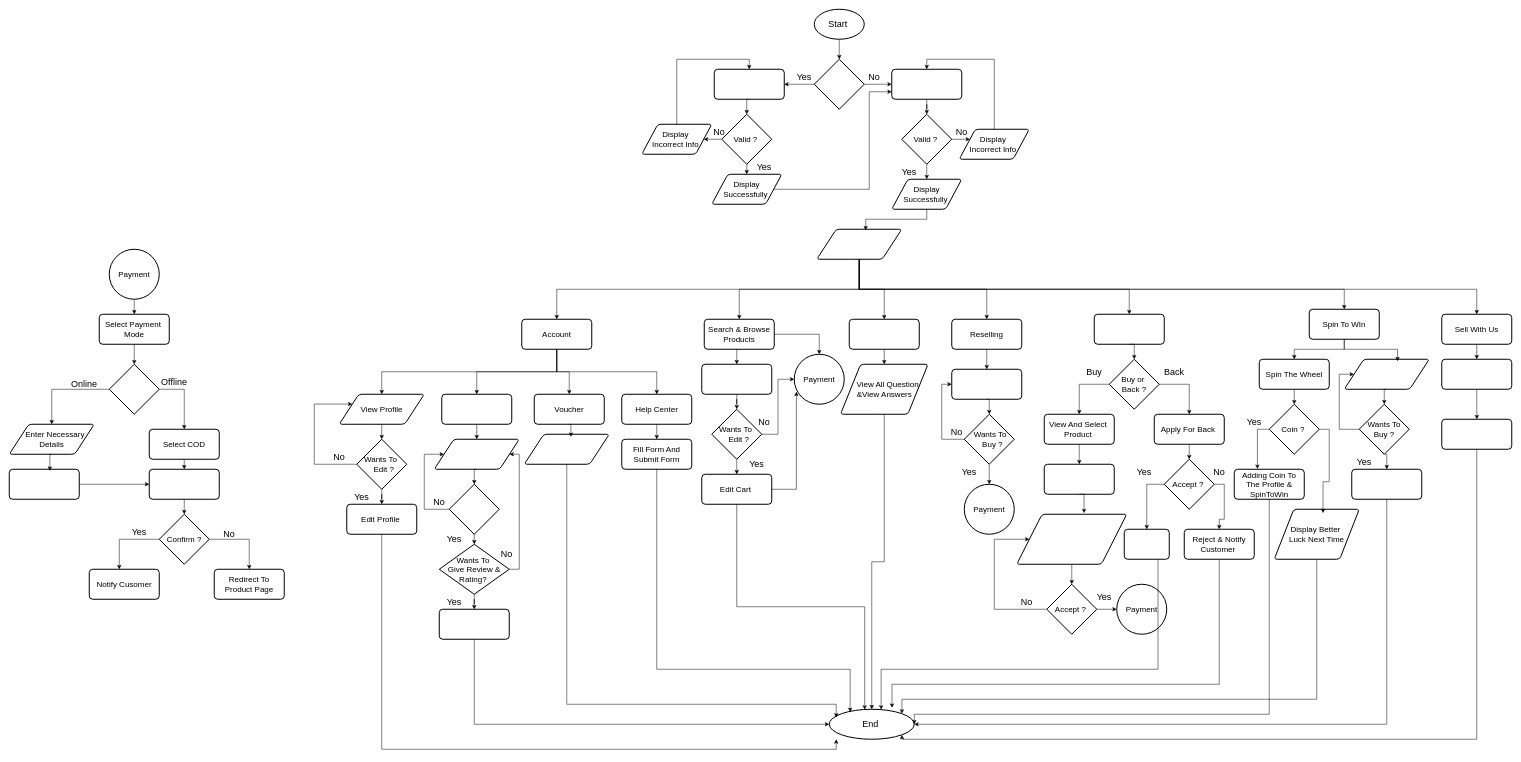
Image size: 1521x762. Some labels were removed from this diagram. Each missing label, with the centre of its shape:
"Add To Cart" belongs at pixel 736 379.
"Buy And Add Coupen To Account" belongs at pixel 1386 484.
"Buy Back" belongs at pixel 1129 329.
"Chatboat FAQ" belongs at pixel 884 334.
"Delivered?" belongs at pixel 474 509.
"Display All The Discount Coupen" belongs at pixel 1387 374.
"Display All The Prices And Terms & Conditions" belongs at pixel 1071 539.
"Display All The Vouchers" belongs at pixel 567 449.
"Display Home Screen" belongs at pixel 859 244.
"Give Review & Rating" belongs at pixel 474 624.
"Login" belongs at pixel 926 84.
"New User ?" belongs at pixel 839 84.
"Offlline / Online?" belongs at pixel 134 389.
"Order" belongs at pixel 476 409.
"Redirect To Seller Website ( if accept )" belongs at pixel 1476 434.
"Register" belongs at pixel 749 84.
"Return" belongs at pixel 1147 544.
"Review Order Summary" belongs at pixel 184 484.
"Select Customization options" belongs at pixel 1079 479.
"Select Payment Method" belongs at pixel 44 484.
"View & Submit Form" belongs at pixel 1476 374.
"View Order" belongs at pixel 477 454.
"View Products" belongs at pixel 986 384.
